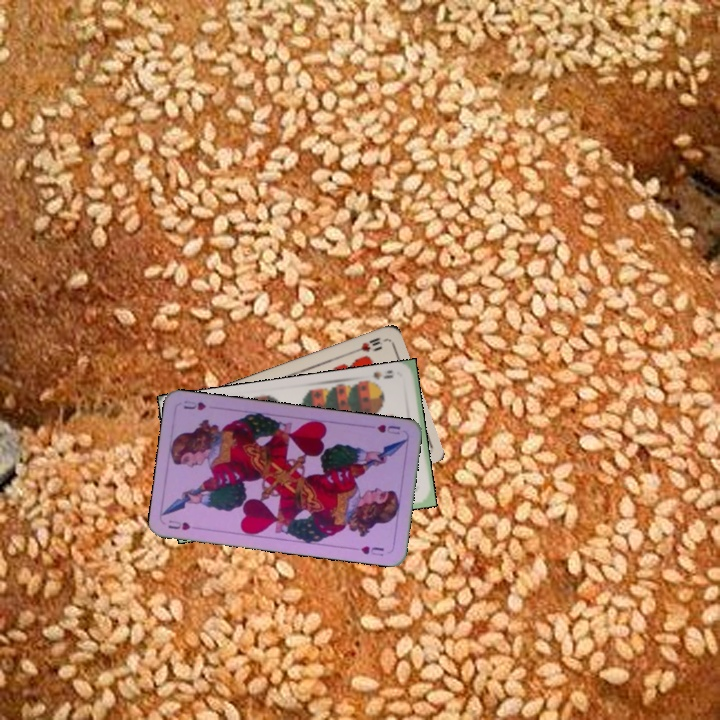H10: (349, 333, 388, 356)
HU: (373, 420, 403, 437), (164, 516, 193, 533)
S9: (361, 366, 395, 387)
